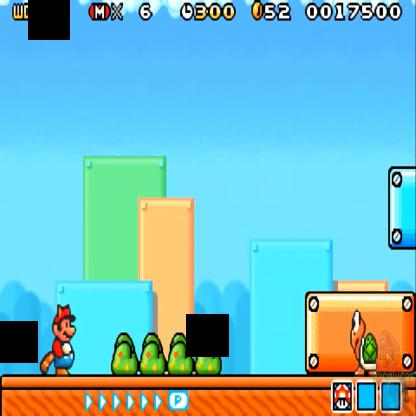Mario: (37, 305, 78, 376)
hongo: (335, 386, 351, 414)
koopa: (349, 306, 380, 376)
moneda: (253, 0, 262, 25)
